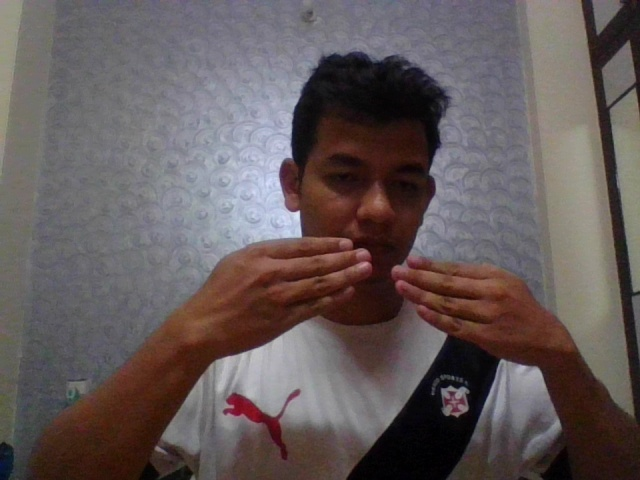Thankyou: (190, 233, 566, 367)
